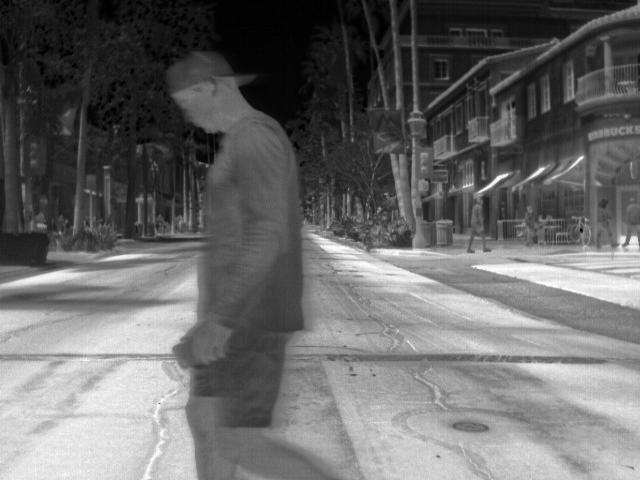person: (163, 49, 334, 479), (465, 197, 490, 253), (594, 197, 617, 246), (621, 197, 639, 247), (523, 204, 536, 246)
